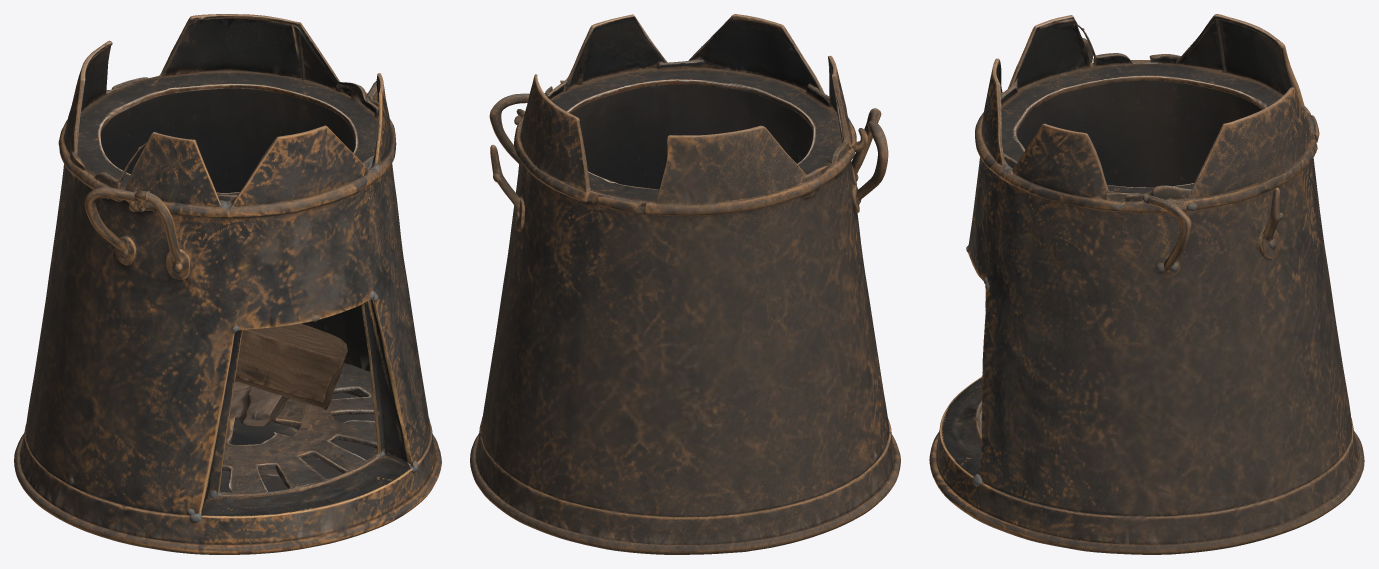
File: burzhuyka-cone-v1.glb
The picture shows the model from 3 angles, left to right: view 1: azimuth 30°, elevation 25°; view 2: azimuth 150°, elevation 25°; view 3: azimuth 270°, elevation 25°; orthographic projection.
Visible parts, largest first — view 1: Physical scale in metres — estimated; view 2: Physical scale in metres — estimated; view 3: Physical scale in metres — estimated.
Part boxes in pixels (x1=…): Physical scale in metres — estimated: x1=14, y1=14, x2=441, y2=554; Physical scale in metres — estimated: x1=470, y1=14, x2=900, y2=554; Physical scale in metres — estimated: x1=929, y1=14, x2=1364, y2=554.
Bounding box in the file's own units: 0.3494 × 0.35 × 0.3493.
1 material, 1 textured.
